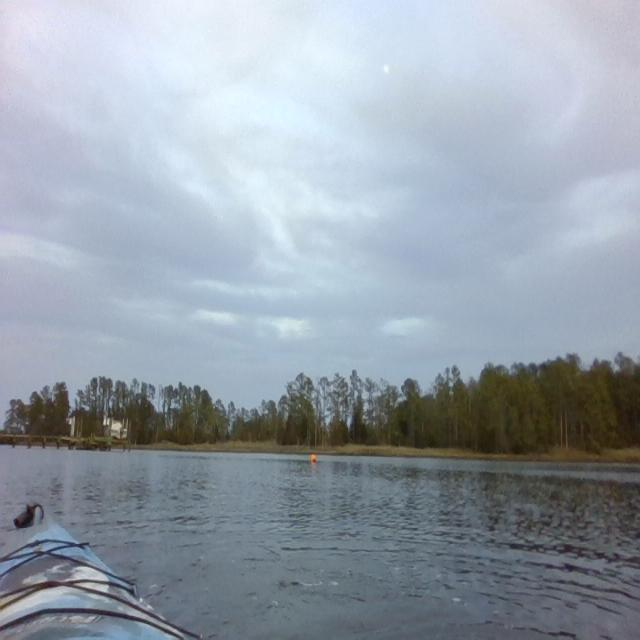Buoy: (309, 453, 318, 467)
